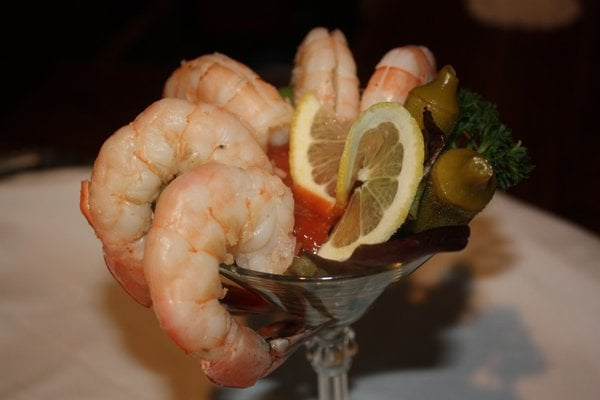taco: (288, 81, 409, 255), (324, 101, 427, 266)
